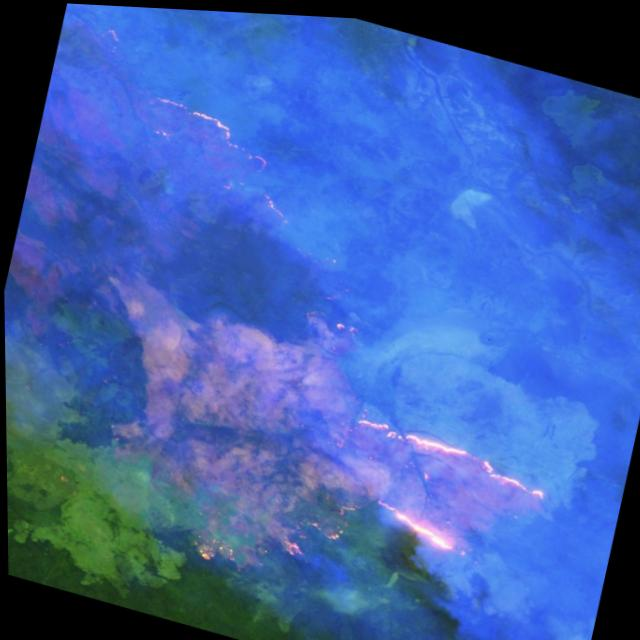fire: (189, 374, 565, 640), (30, 7, 317, 224)
